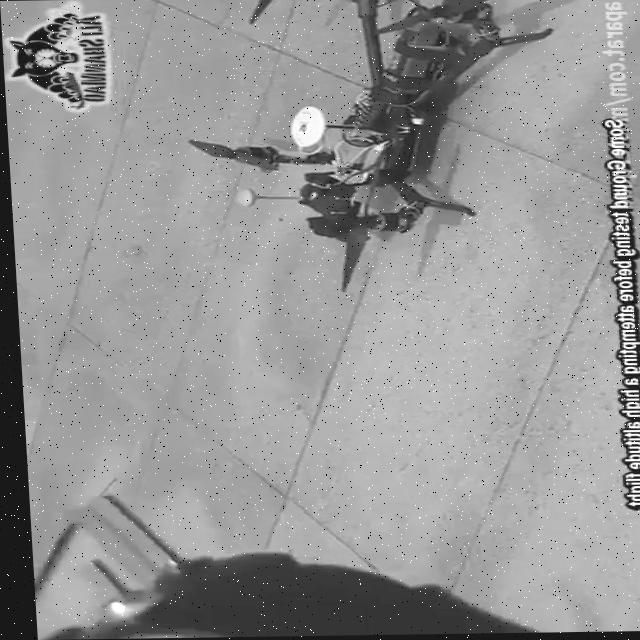drone: (173, 0, 565, 294)
